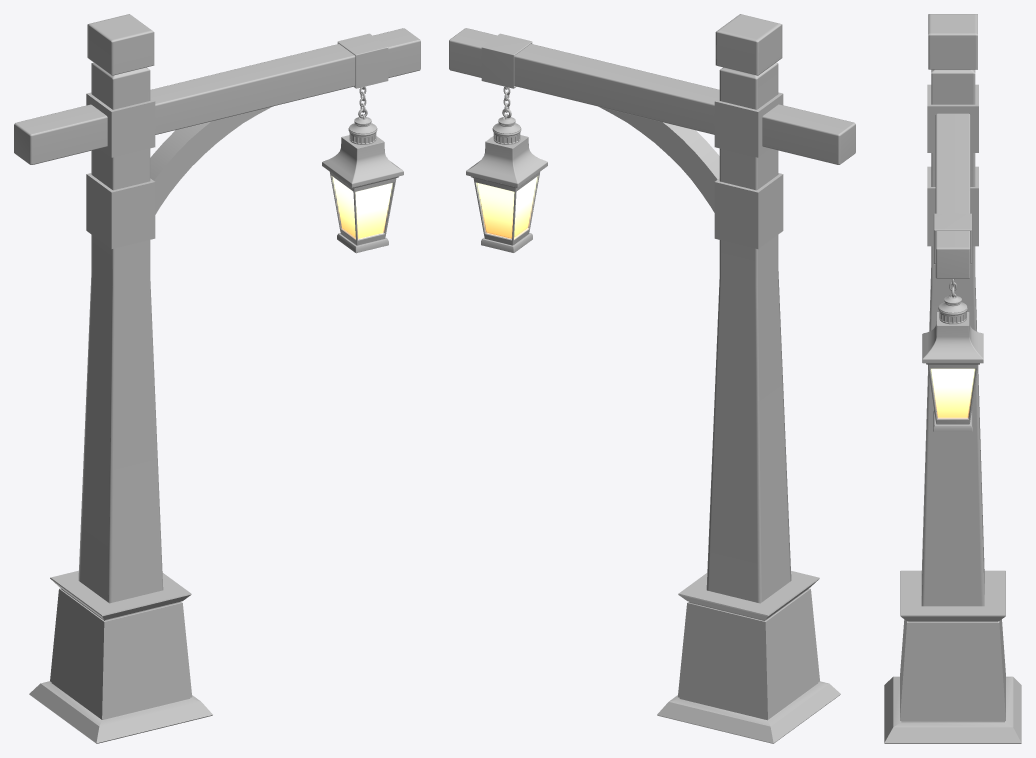
File: Lantern.gltf
3 views of the same model, side by side, from view 1: azimuth 30°, elevation 25°; view 2: azimuth 150°, elevation 25°; view 3: azimuth 270°, elevation 25° (orthographic).
Visible parts, largest first — view 1: LanternPole_Body, LanternPole_Lantern; view 2: LanternPole_Body, LanternPole_Lantern; view 3: LanternPole_Body, LanternPole_Lantern.
Part boxes in pixels (x1,y1,x2,y2): LanternPole_Body: [14, 14, 420, 743]; LanternPole_Lantern: [322, 108, 403, 253]; LanternPole_Body: [449, 14, 855, 743]; LanternPole_Lantern: [466, 108, 547, 252]; LanternPole_Body: [884, 14, 1021, 743]; LanternPole_Lantern: [922, 287, 983, 431].
Bounding box in the file's own units: 15.5 × 25.66 × 4.63.
